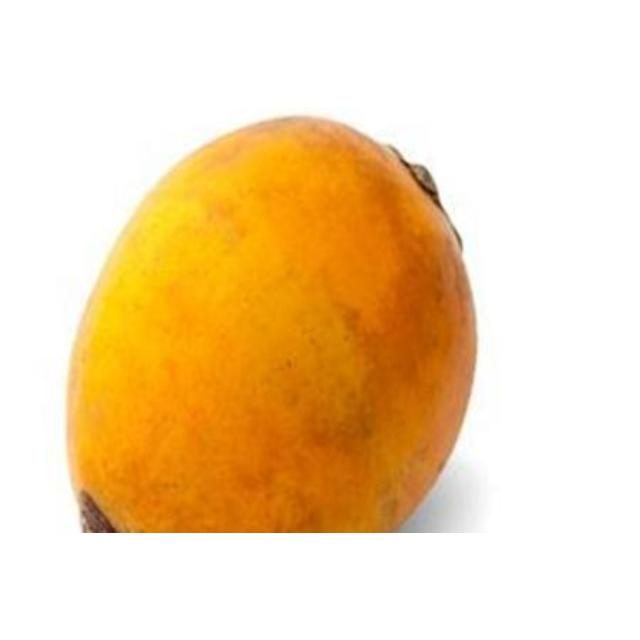good: (65, 116, 479, 532)
